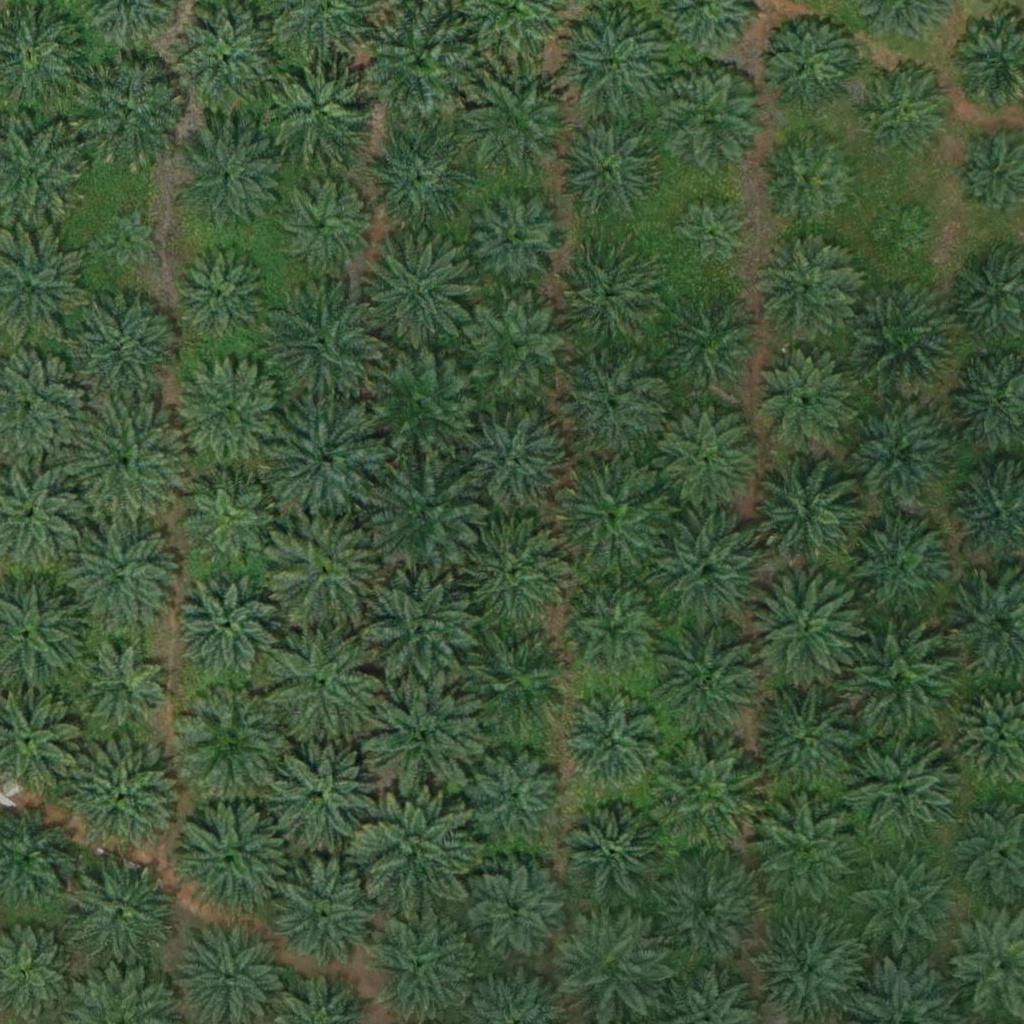Kelapa_Sawit: (361, 344, 474, 458), (267, 280, 380, 394), (173, 124, 286, 238), (368, 454, 481, 568), (653, 620, 766, 734), (751, 796, 864, 910), (844, 851, 957, 965), (559, 9, 672, 122), (262, 53, 375, 166), (267, 402, 380, 515), (171, 5, 284, 118), (67, 740, 180, 853), (177, 799, 290, 912), (268, 515, 381, 628), (363, 574, 476, 687), (365, 680, 478, 793), (359, 795, 472, 908), (557, 453, 670, 566), (654, 513, 767, 626), (748, 574, 861, 687), (750, 683, 863, 796), (64, 856, 177, 969), (456, 405, 568, 519), (73, 59, 185, 173), (464, 513, 576, 627), (654, 745, 766, 859), (845, 278, 957, 391), (843, 400, 955, 513), (555, 350, 667, 463), (462, 66, 574, 179), (365, 6, 477, 119), (361, 118, 473, 231), (363, 230, 475, 343), (174, 357, 286, 470), (68, 291, 180, 404), (70, 404, 182, 517), (64, 522, 176, 635), (176, 685, 288, 798), (270, 627, 382, 740), (268, 733, 380, 846), (461, 628, 573, 741), (650, 854, 762, 967), (751, 454, 863, 567), (841, 507, 953, 620), (840, 623, 952, 736), (848, 737, 960, 850), (553, 908, 665, 1021), (272, 857, 384, 970), (859, 60, 959, 161), (757, 9, 857, 110), (761, 128, 861, 229), (753, 236, 853, 337), (753, 347, 853, 448), (658, 66, 758, 167), (660, 292, 760, 393), (658, 408, 758, 509), (558, 115, 658, 216), (555, 248, 655, 349), (468, 192, 568, 293), (468, 295, 568, 396), (75, 640, 175, 741), (179, 462, 279, 563), (175, 573, 275, 674), (465, 745, 565, 846), (467, 864, 567, 965), (567, 806, 667, 907), (272, 174, 372, 274), (170, 243, 270, 343), (562, 693, 662, 793), (568, 590, 656, 678), (671, 198, 746, 273), (868, 202, 930, 265), (97, 207, 159, 270)
